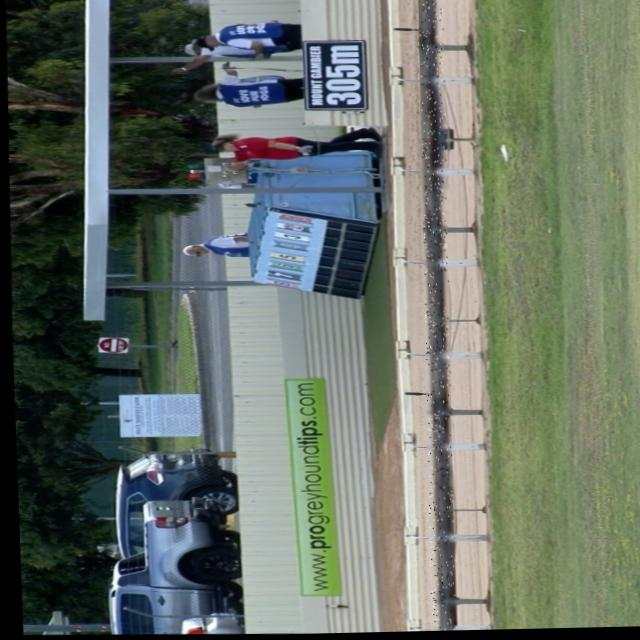rail: (419, 0, 450, 633)
